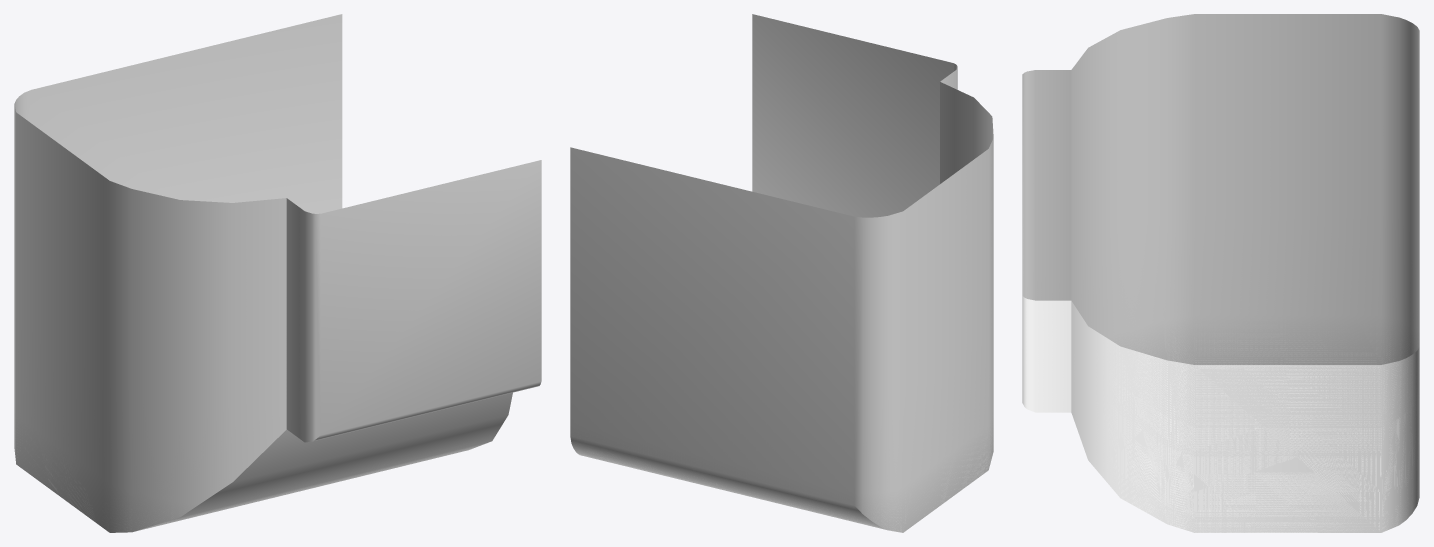
File: original-41.obj
3 views of the same model, side by side, from view 1: azimuth 30°, elevation 25°; view 2: azimuth 150°, elevation 25°; view 3: azimuth 270°, elevation 25° (orthographic). The views are drawn at different scales.
Visible parts, largest first — view 1: DF_41_BL1/DF_41_BL/mesh24/mesh24-geometry#mesh24-geometry; view 2: DF_41_BL1/DF_41_BL/mesh24/mesh24-geometry#mesh24-geometry; view 3: DF_41_BL1/DF_41_BL/mesh24/mesh24-geometry#mesh24-geometry.
Part boxes in pixels (x1,y1,x2,y2): DF_41_BL1/DF_41_BL/mesh24/mesh24-geometry#mesh24-geometry: (14, 14, 541, 532); DF_41_BL1/DF_41_BL/mesh24/mesh24-geometry#mesh24-geometry: (570, 14, 993, 532); DF_41_BL1/DF_41_BL/mesh24/mesh24-geometry#mesh24-geometry: (1022, 14, 1419, 532).
Size of the model in its own units: 0.0352 by 0.0343 by 0.0352.
